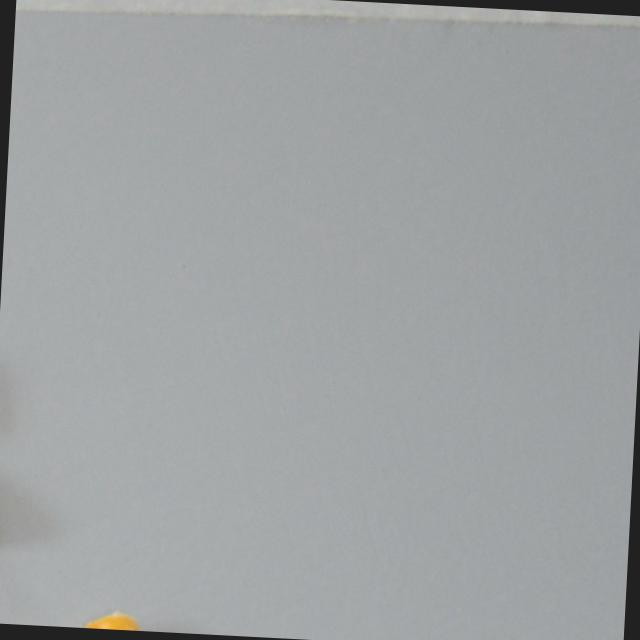pelicula: (77, 608, 148, 631)
